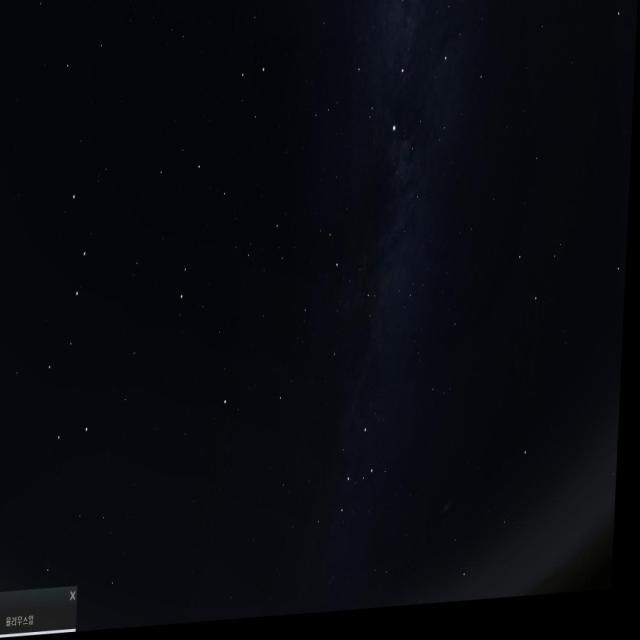cassiopeia: (310, 427, 390, 535)
cygnus: (350, 0, 454, 158)
ursa_major: (32, 163, 112, 455)
